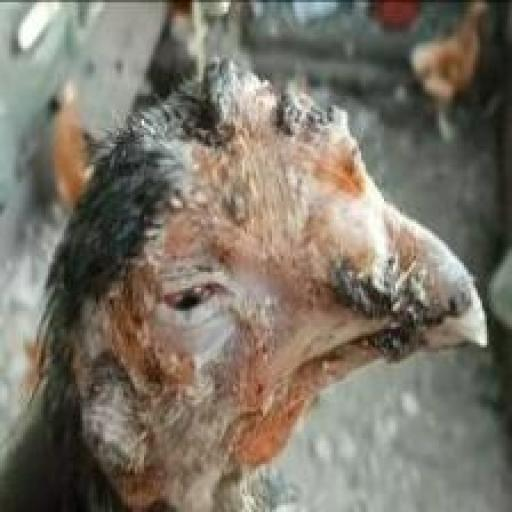disease: (112, 58, 505, 465)
